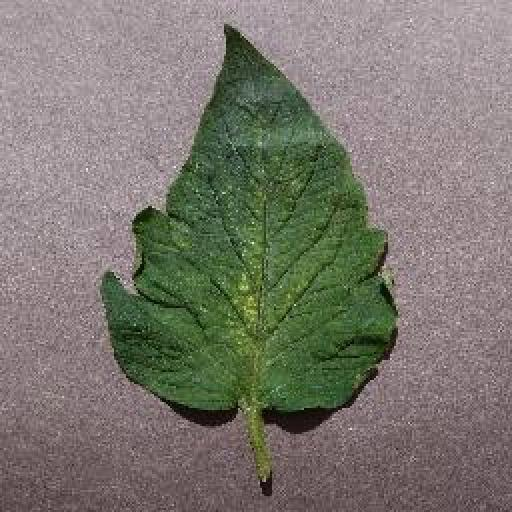disease_tomato: (102, 24, 398, 414)
